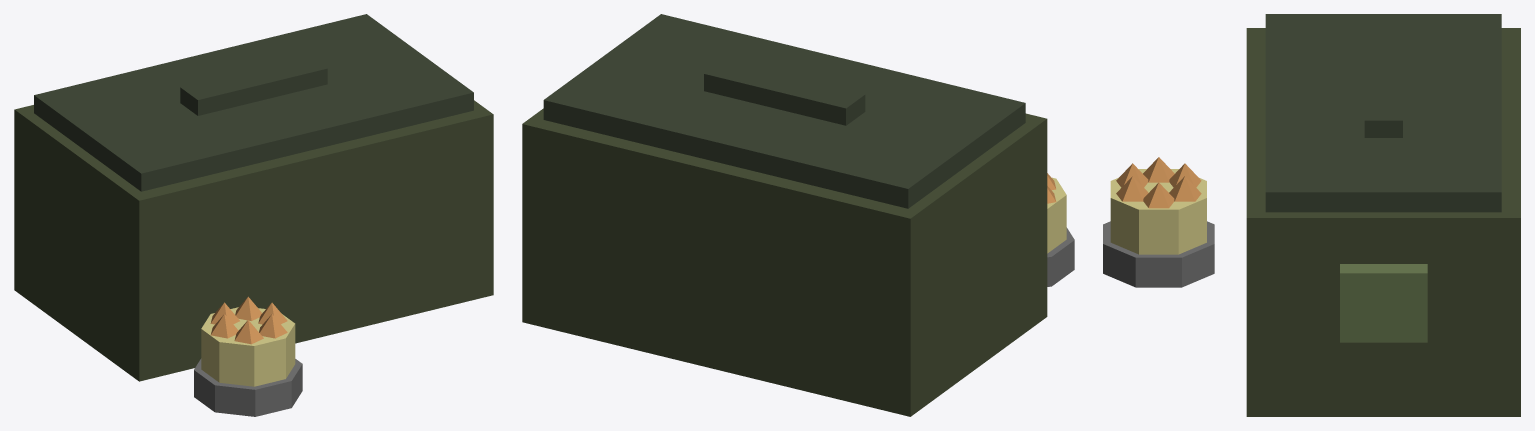
The model's file is ce_ammo_revolver_fmj_c.obj.
3 views of the same model, side by side, from view 1: azimuth 30°, elevation 25°; view 2: azimuth 150°, elevation 25°; view 3: azimuth 270°, elevation 25° (orthographic). The views are drawn at different scales.
Parts seen in each view (by area): view 1: ce_ammo_revolver_fmj_c_0, ce_ammo_revolver_fmj_c_1, ce_ammo_revolver_fmj_c_5, ce_ammo_revolver_fmj_c_2, ce_ammo_revolver_fmj_c_4; view 2: ce_ammo_revolver_fmj_c_0, ce_ammo_revolver_fmj_c_1, ce_ammo_revolver_fmj_c_2, ce_ammo_revolver_fmj_c_5, ce_ammo_revolver_fmj_c_4; view 3: ce_ammo_revolver_fmj_c_0, ce_ammo_revolver_fmj_c_1, ce_ammo_revolver_fmj_c_3, ce_ammo_revolver_fmj_c_5, ce_ammo_revolver_fmj_c_4, ce_ammo_revolver_fmj_c_2, ce_ammo_revolver_fmj_c_6, ce_ammo_revolver_fmj_c_11, ce_ammo_revolver_fmj_c_7, ce_ammo_revolver_fmj_c_9.
Part boxes in pixels (x1,y1,x2,y2): ce_ammo_revolver_fmj_c_0: [14, 100, 493, 381]; ce_ammo_revolver_fmj_c_1: [34, 14, 473, 191]; ce_ammo_revolver_fmj_c_5: [201, 307, 295, 386]; ce_ammo_revolver_fmj_c_2: [180, 56, 327, 115]; ce_ammo_revolver_fmj_c_4: [194, 358, 302, 416]; ce_ammo_revolver_fmj_c_0: [522, 108, 1047, 416]; ce_ammo_revolver_fmj_c_1: [543, 14, 1025, 208]; ce_ammo_revolver_fmj_c_2: [704, 60, 865, 125]; ce_ammo_revolver_fmj_c_5: [1047, 177, 1066, 253]; ce_ammo_revolver_fmj_c_4: [1047, 227, 1074, 286]; ce_ammo_revolver_fmj_c_0: [1246, 28, 1520, 416]; ce_ammo_revolver_fmj_c_1: [1265, 14, 1501, 212]; ce_ammo_revolver_fmj_c_3: [1340, 264, 1427, 342]; ce_ammo_revolver_fmj_c_5: [1110, 169, 1206, 254]; ce_ammo_revolver_fmj_c_4: [1103, 221, 1214, 287]; ce_ammo_revolver_fmj_c_2: [1364, 51, 1402, 137]; ce_ammo_revolver_fmj_c_6: [1143, 182, 1174, 208]; ce_ammo_revolver_fmj_c_11: [1116, 176, 1148, 201]; ce_ammo_revolver_fmj_c_7: [1169, 176, 1201, 201]; ce_ammo_revolver_fmj_c_9: [1143, 157, 1174, 182].
Bounding box in the file's own units: 0.86 × 0.475 × 0.7616.
